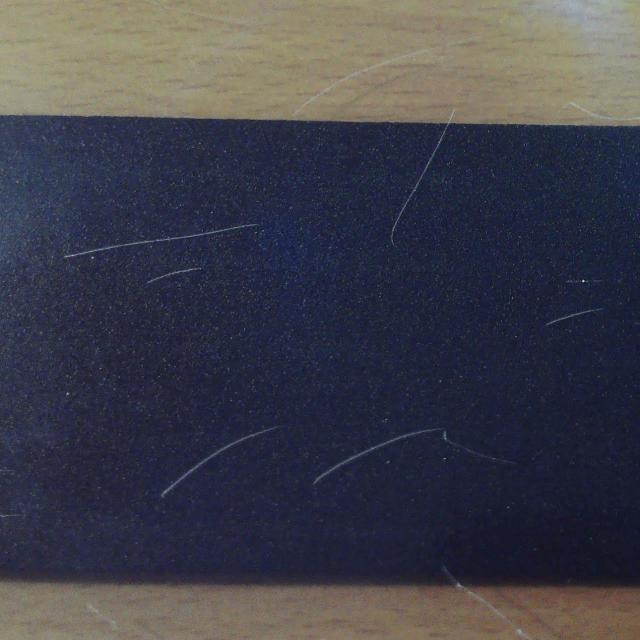defect: (160, 423, 284, 501), (387, 124, 452, 250), (312, 428, 446, 486), (64, 224, 258, 258), (442, 432, 518, 467), (145, 264, 207, 284), (547, 306, 606, 324)
